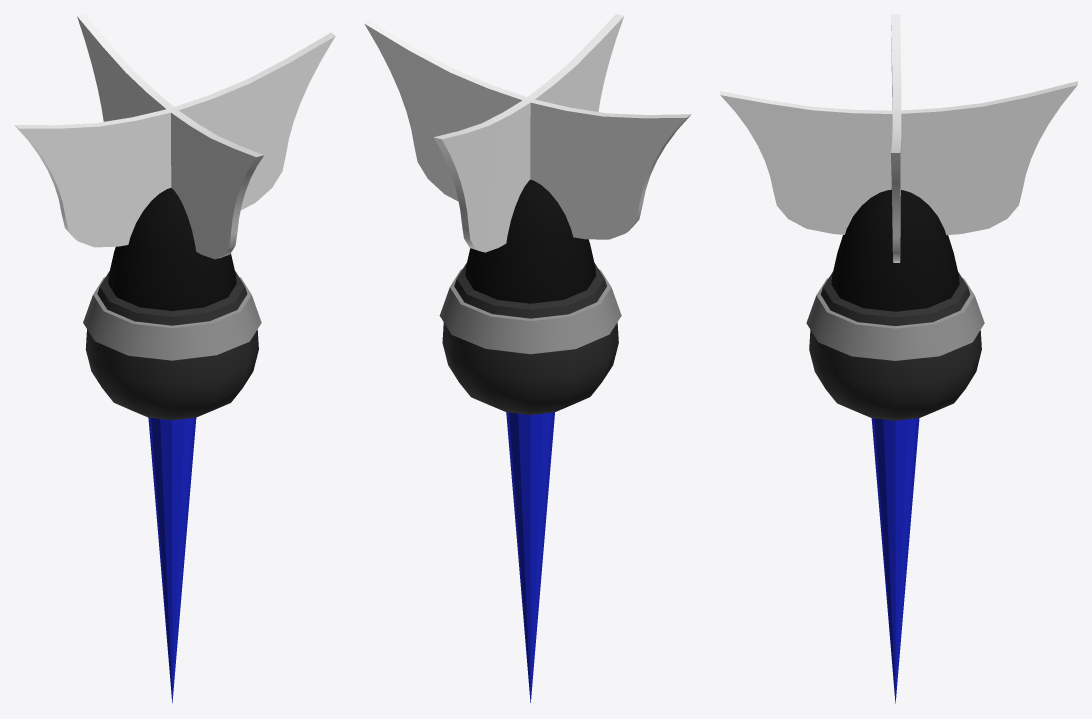
The model's file is Dart.FBX.
The picture shows the model from 3 angles, left to right: view 1: azimuth 30°, elevation 25°; view 2: azimuth 150°, elevation 25°; view 3: azimuth 270°, elevation 25°; orthographic projection. The views are drawn at different scales.
Parts seen in each view (by area): view 1: Capsule025; view 2: Capsule025; view 3: Capsule025.
Boxes of the visible parts, bbox=[...] form: Capsule025: bbox=[14, 14, 335, 703]; Capsule025: bbox=[364, 14, 691, 702]; Capsule025: bbox=[720, 14, 1077, 703].
Size of the model in its own units: 149 by 285 by 146.
